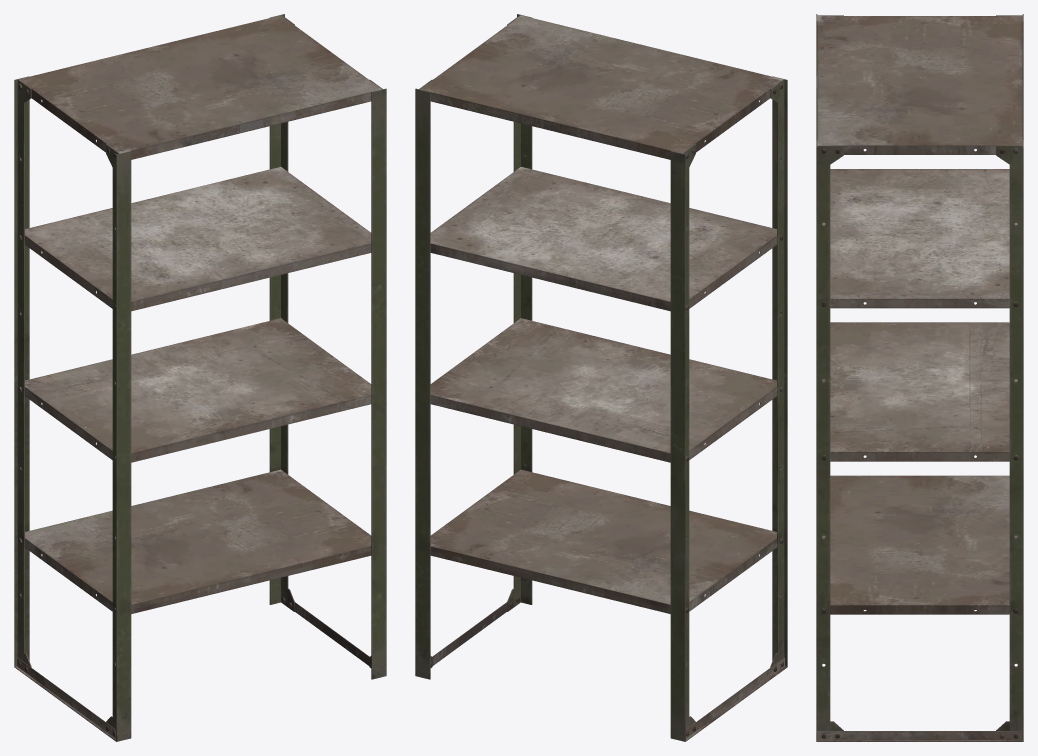
Rendered from scene-rack.glb.
The picture shows the model from 3 angles, left to right: view 1: azimuth 30°, elevation 25°; view 2: azimuth 150°, elevation 25°; view 3: azimuth 270°, elevation 25°; orthographic projection.
Visible parts, largest first — view 1: worn_metal_rack; view 2: worn_metal_rack; view 3: worn_metal_rack.
Part boxes in pixels (x1=…): worn_metal_rack: x1=14, y1=14, x2=386, y2=741; worn_metal_rack: x1=415, y1=14, x2=787, y2=741; worn_metal_rack: x1=816, y1=14, x2=1023, y2=741.
Size of the model in its own units: 0.9153 by 1.9 by 0.6001.
Materials: 1 (1 with a texture image).
